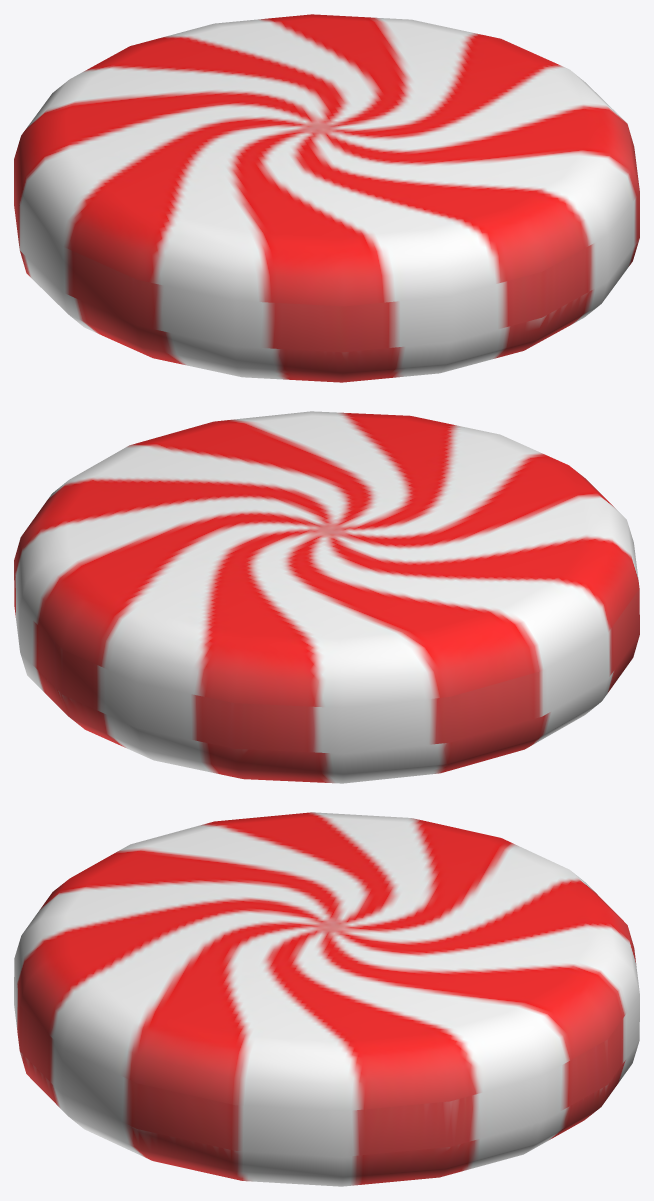
The model's file is MM_Pepper_Candy.fbx.
3 renders of one model, top to bottom at view 1: azimuth 30°, elevation 25°; view 2: azimuth 150°, elevation 25°; view 3: azimuth 270°, elevation 25°, orthographic.
Visible parts, largest first — view 1: MM_Pepper_Candy; view 2: MM_Pepper_Candy; view 3: MM_Pepper_Candy.
Part boxes in pixels (left/top/right/bottom): MM_Pepper_Candy: left=14, top=14, right=639, bottom=382; MM_Pepper_Candy: left=14, top=411, right=639, bottom=783; MM_Pepper_Candy: left=14, top=812, right=639, bottom=1186.
Bounding box in the file's own units: 8.42 × 2.12 × 8.37.
